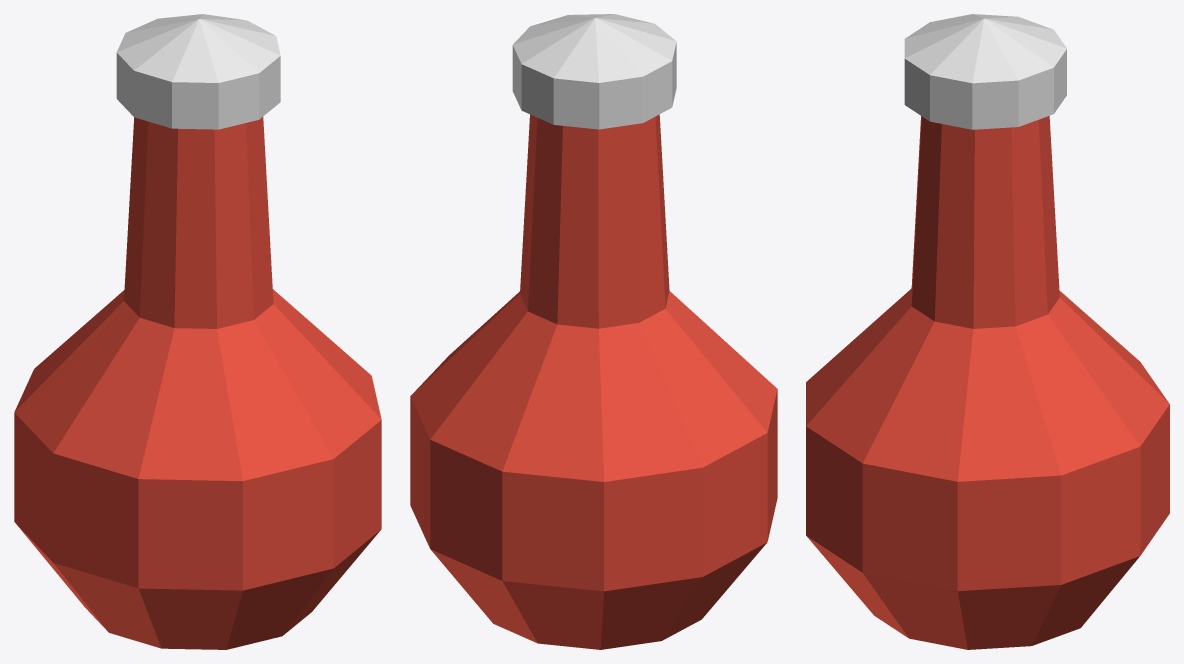
File: potion.fbx
The picture shows the model from 3 angles, left to right: view 1: azimuth 30°, elevation 25°; view 2: azimuth 150°, elevation 25°; view 3: azimuth 270°, elevation 25°; orthographic projection.
Visible parts, largest first — view 1: Sphere; view 2: Sphere; view 3: Sphere.
Part boxes in pixels (bbox=[...]): Sphere: bbox=[14, 14, 381, 649]; Sphere: bbox=[410, 14, 777, 649]; Sphere: bbox=[806, 14, 1169, 649].
Bounding box in the file's own units: 188 × 332 × 186.
